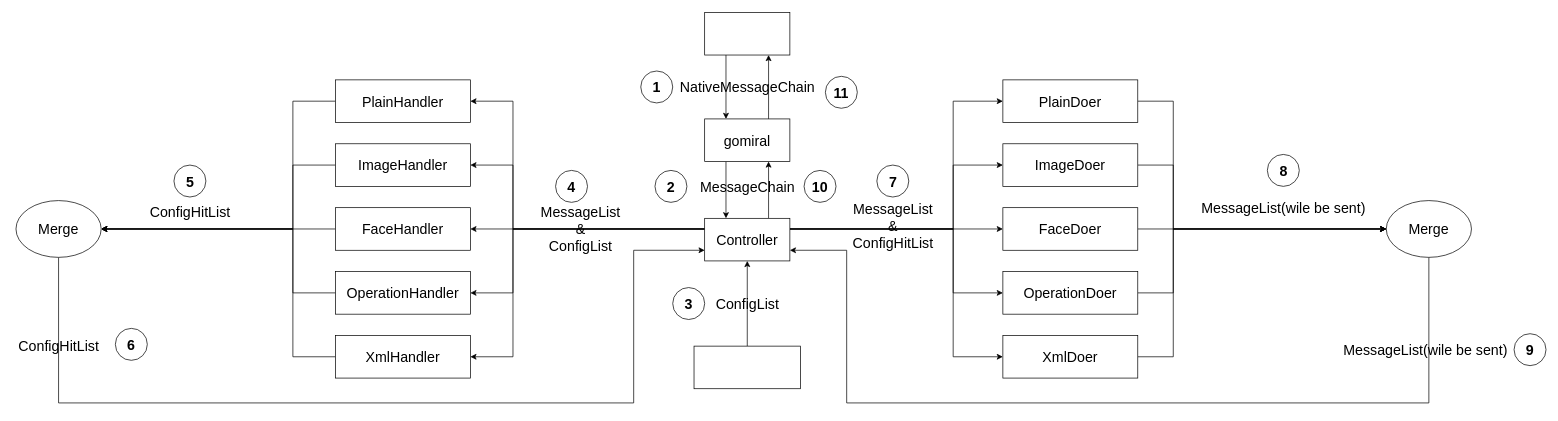
This 1558x421 diagram has some shape labels left out. The centre of each missing label's shape, as x and y in pixels:
ConfigReader: the point at 747,367
Mirai: the point at 747,33
